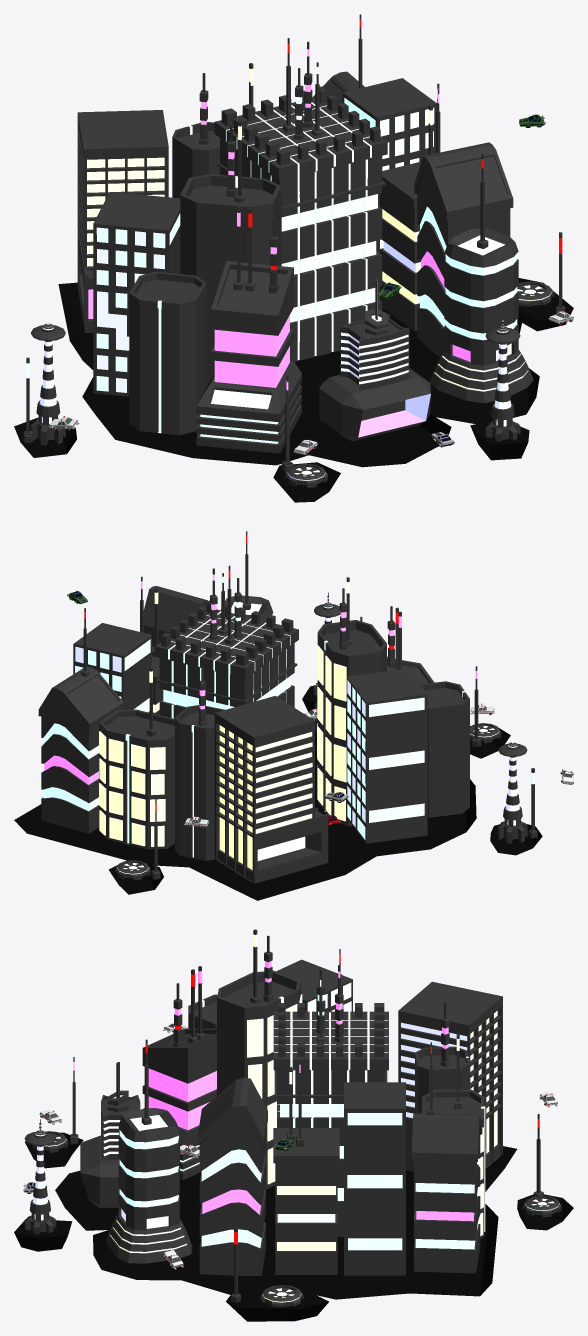
Rendered from sifi_island-transformed.glb.
3 views of the same model, one above another, from view 1: azimuth 30°, elevation 25°; view 2: azimuth 150°, elevation 25°; view 3: azimuth 270°, elevation 25° (orthographic). The views are drawn at different scales.
Visible parts, largest first — view 1: Object_71, Object_6, Object_72, Object_63, Object_74, Object_73, Object_11, Object_13; view 2: Object_71, Object_11, Object_6, Object_72, Object_63, Object_74, Object_13, Object_73; view 3: Object_71, Object_6, Object_72, Object_63, Object_11, Object_73, Object_74, Object_13.
Part boxes in pixels (box(x1,y1,x2,y2)): Object_71: box(30, 71, 554, 487); Object_6: box(14, 119, 573, 502); Object_72: box(42, 98, 536, 474); Object_63: box(23, 14, 565, 473); Object_74: box(40, 112, 511, 480); Object_73: box(88, 251, 470, 437); Object_11: box(87, 157, 552, 391); Object_13: box(49, 310, 573, 454); Object_71: box(38, 586, 527, 883); Object_11: box(99, 642, 346, 869); Object_6: box(14, 597, 542, 900); Object_72: box(43, 602, 517, 874); Object_63: box(81, 531, 537, 879); Object_74: box(75, 602, 519, 860); Object_13: box(184, 703, 573, 827); Object_73: box(44, 755, 98, 784); Object_71: box(24, 959, 561, 1307); Object_6: box(14, 1132, 573, 1321); Object_72: box(35, 988, 559, 1296); Object_63: box(39, 929, 543, 1302); Object_11: box(110, 994, 546, 1302); Object_73: box(148, 1068, 477, 1221); Object_74: box(32, 982, 467, 1228); Object_13: box(39, 1023, 557, 1269).
Bounding box in the file's own units: 18.68 × 9.72 × 17.99.
Materials: 15 (2 with a texture image).
